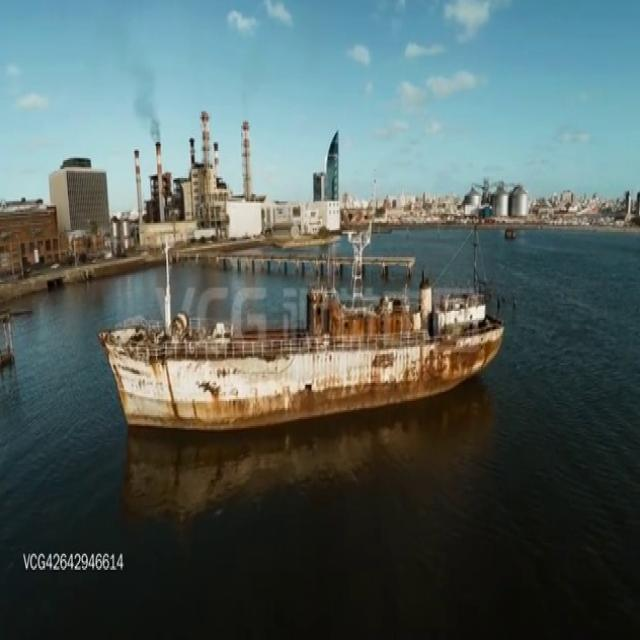cargoship: (105, 242, 504, 431)
